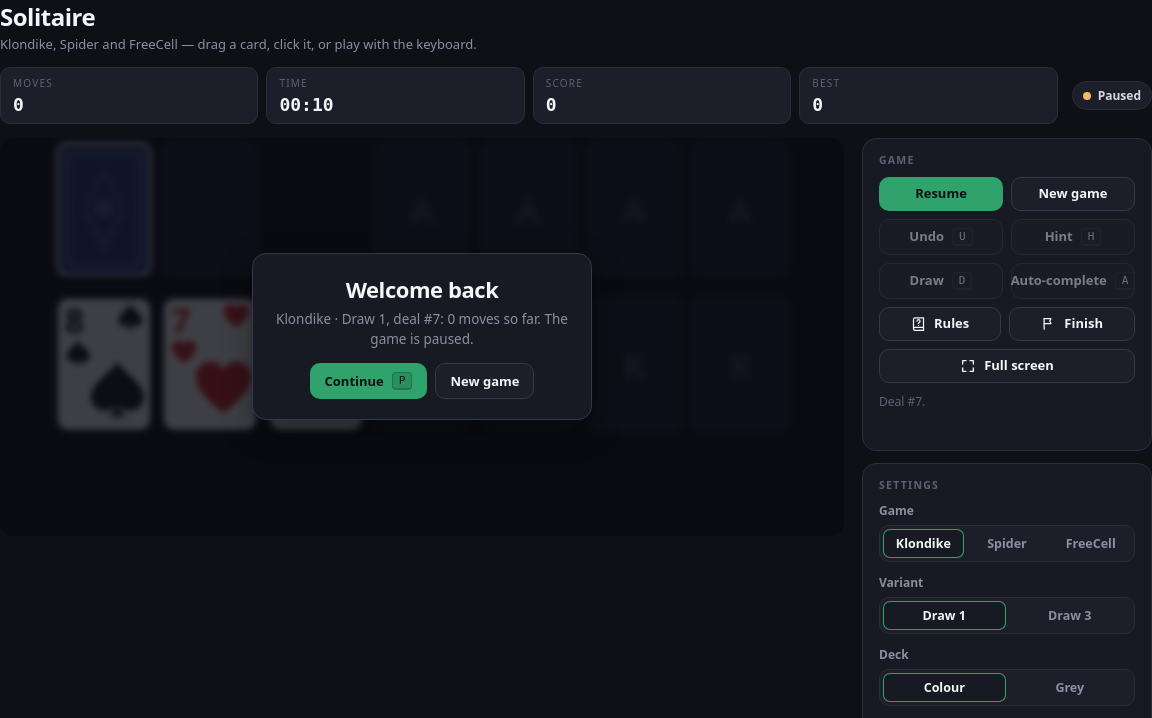
Test: <SolitaireGame /> › an invalid drop snaps the card back
Expected: the dialog "Welcome back" is shown, x1=0 y1=138 x2=844 y2=536
Press p
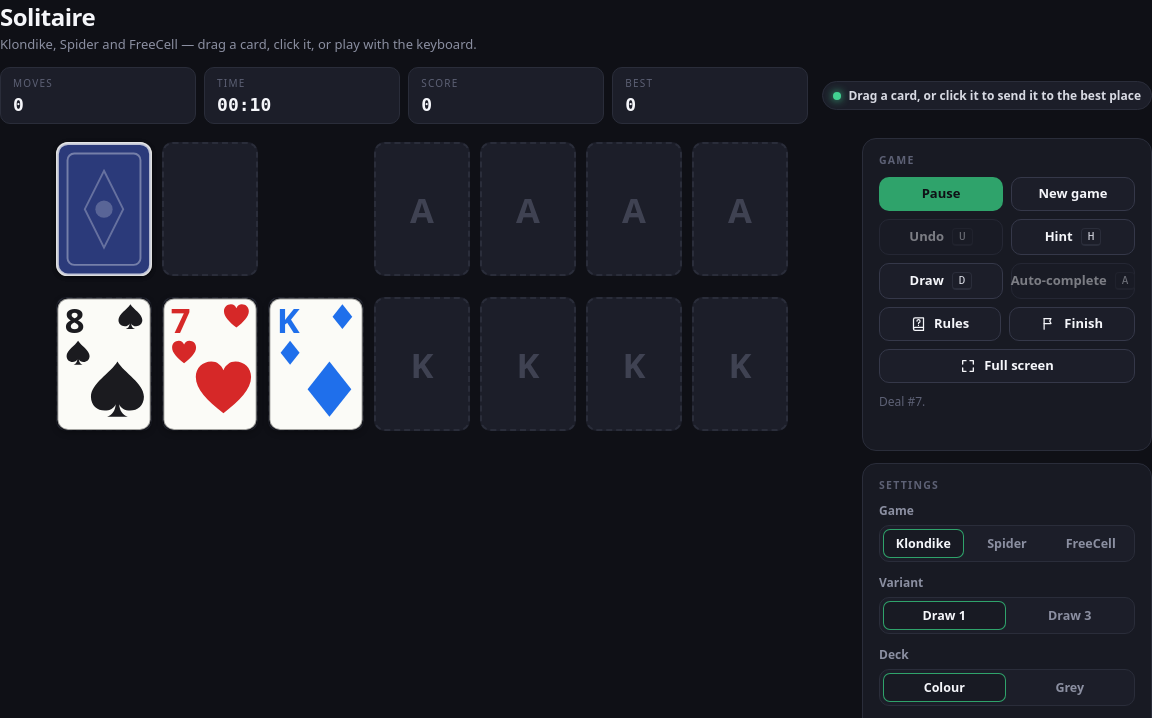
Expected: the dialog is gone
Press the mouse on the element showing "7" at (210, 364), box x1=162 y1=297 x2=258 y2=432
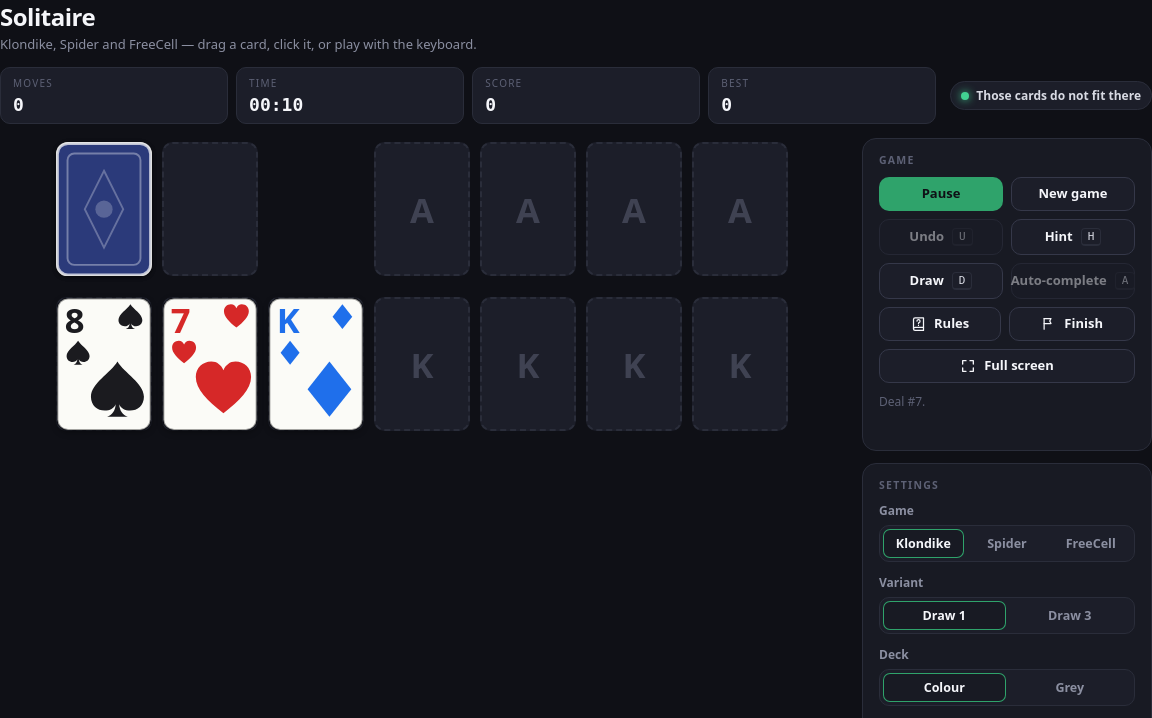
Expected: the message shows "do not fit", x1=976 y1=87 x2=1141 y2=104
